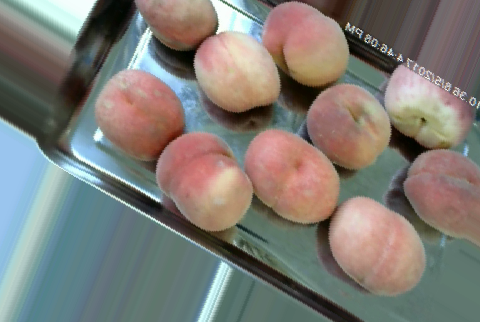Peach: (327, 195, 426, 296), (156, 132, 253, 231), (245, 129, 339, 223), (95, 68, 185, 158), (383, 63, 474, 151), (403, 149, 480, 247), (193, 28, 282, 112), (260, 2, 350, 85), (306, 83, 390, 167), (134, 0, 219, 53)
